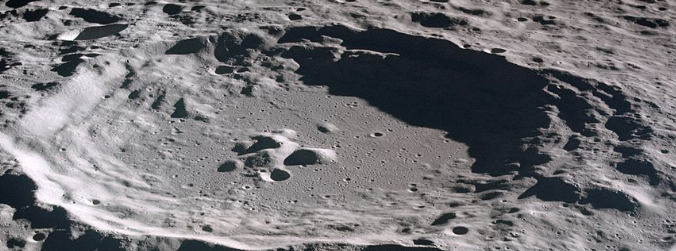crater: (226, 164, 328, 219)
